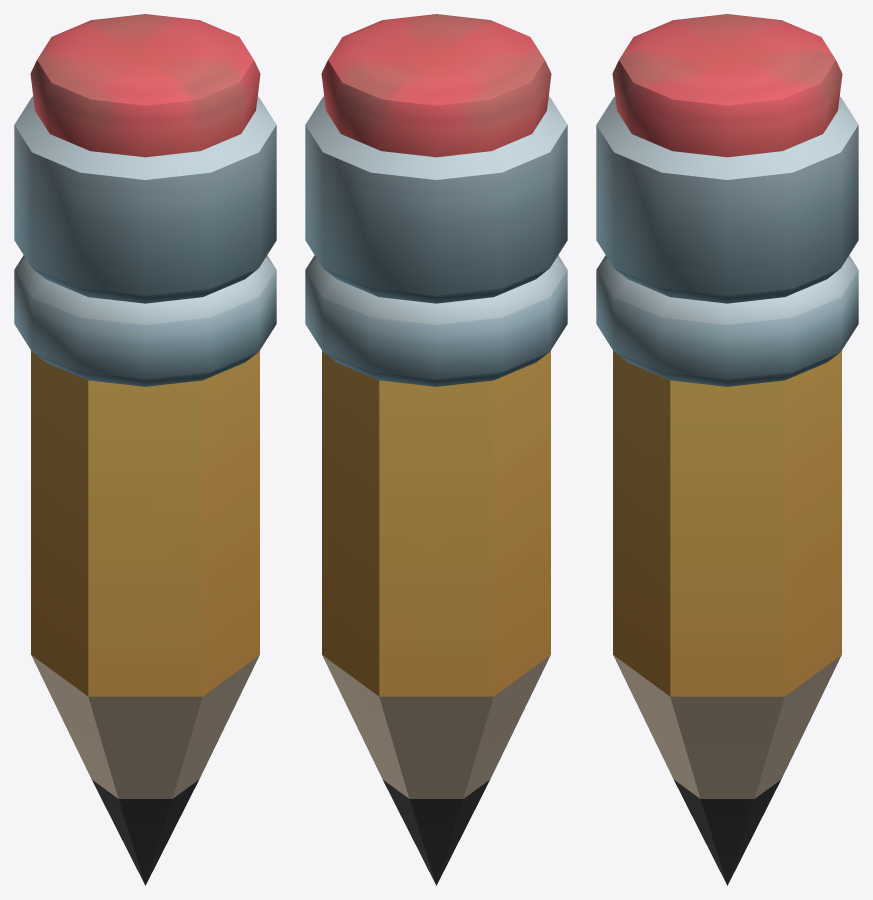
The model's file is pencil_b_short.glb.
3 renders of one model, left to right at view 1: azimuth 30°, elevation 25°; view 2: azimuth 150°, elevation 25°; view 3: azimuth 270°, elevation 25°, orthographic.
Visible parts, largest first — view 1: pencil_B_short; view 2: pencil_B_short; view 3: pencil_B_short.
Boxes of the visible parts, bbox=[...] form: pencil_B_short: bbox=[14, 14, 276, 885]; pencil_B_short: bbox=[305, 14, 567, 885]; pencil_B_short: bbox=[596, 14, 858, 885].
Bounding box in the file's own units: 0.1138 × 0.3985 × 0.1138.
Materials: 1 (1 with a texture image).
